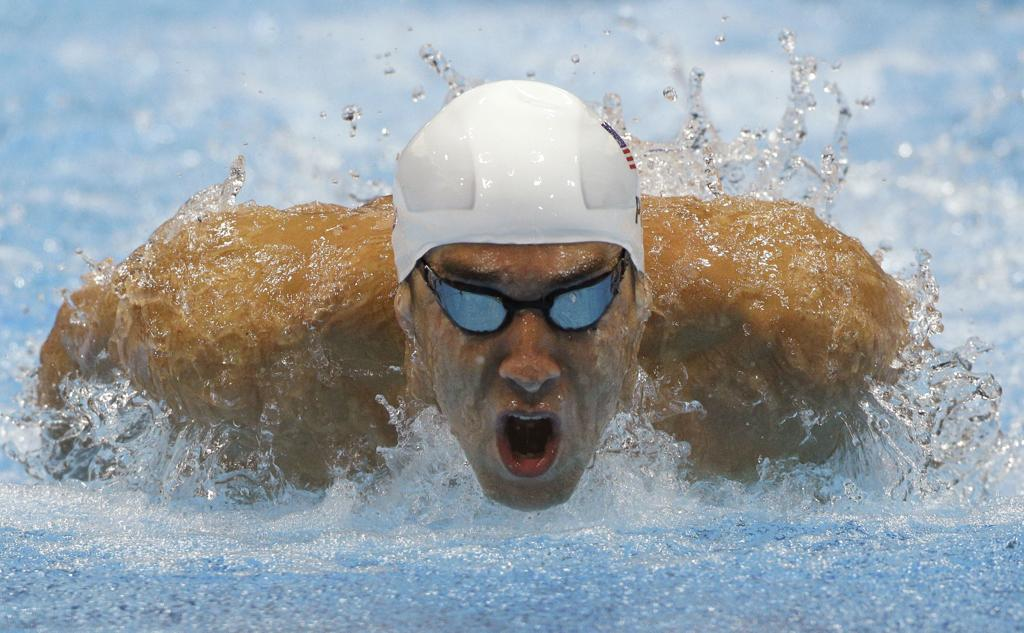face: (422, 228, 636, 504)
